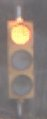Red: (6, 10, 36, 107)
